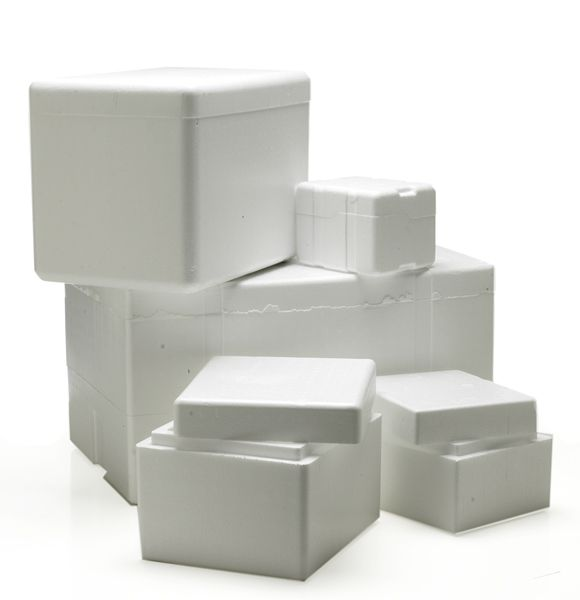泡沫箱: (30, 71, 551, 579)
